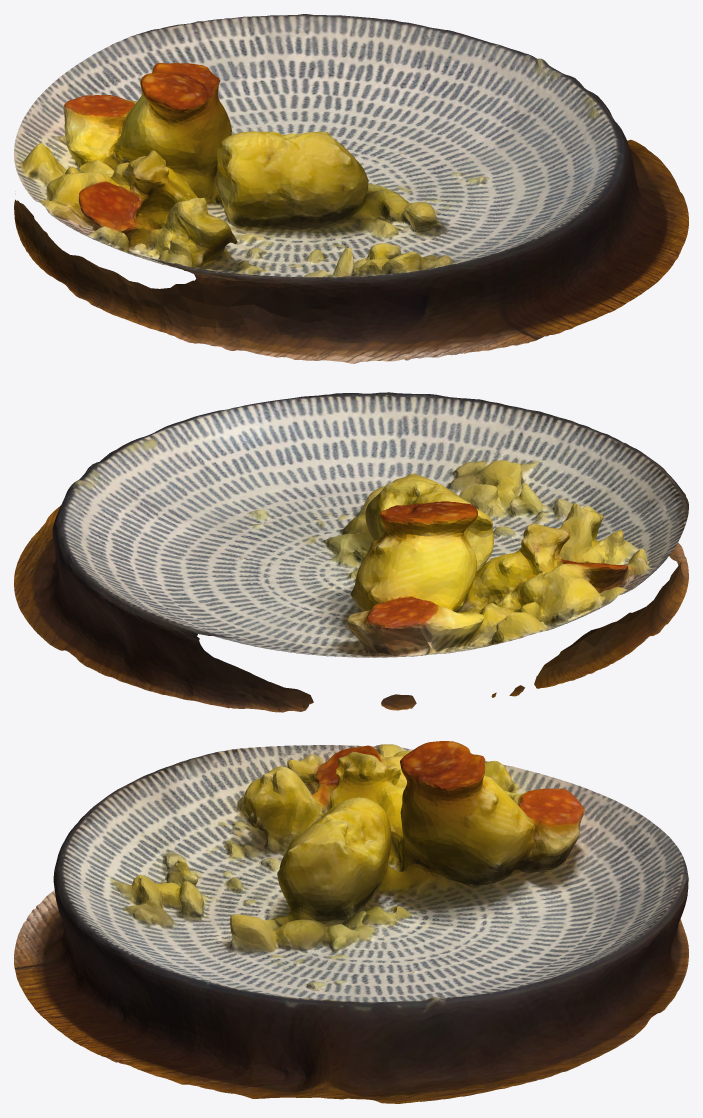
The model's file is plat-test.glb.
3 renders of one model, top to bottom at view 1: azimuth 30°, elevation 25°; view 2: azimuth 150°, elevation 25°; view 3: azimuth 270°, elevation 25°, orthographic.
Bounding box in the file's own units: 0.2927 × 0.0697 × 0.2927.
1 material, 1 textured.
